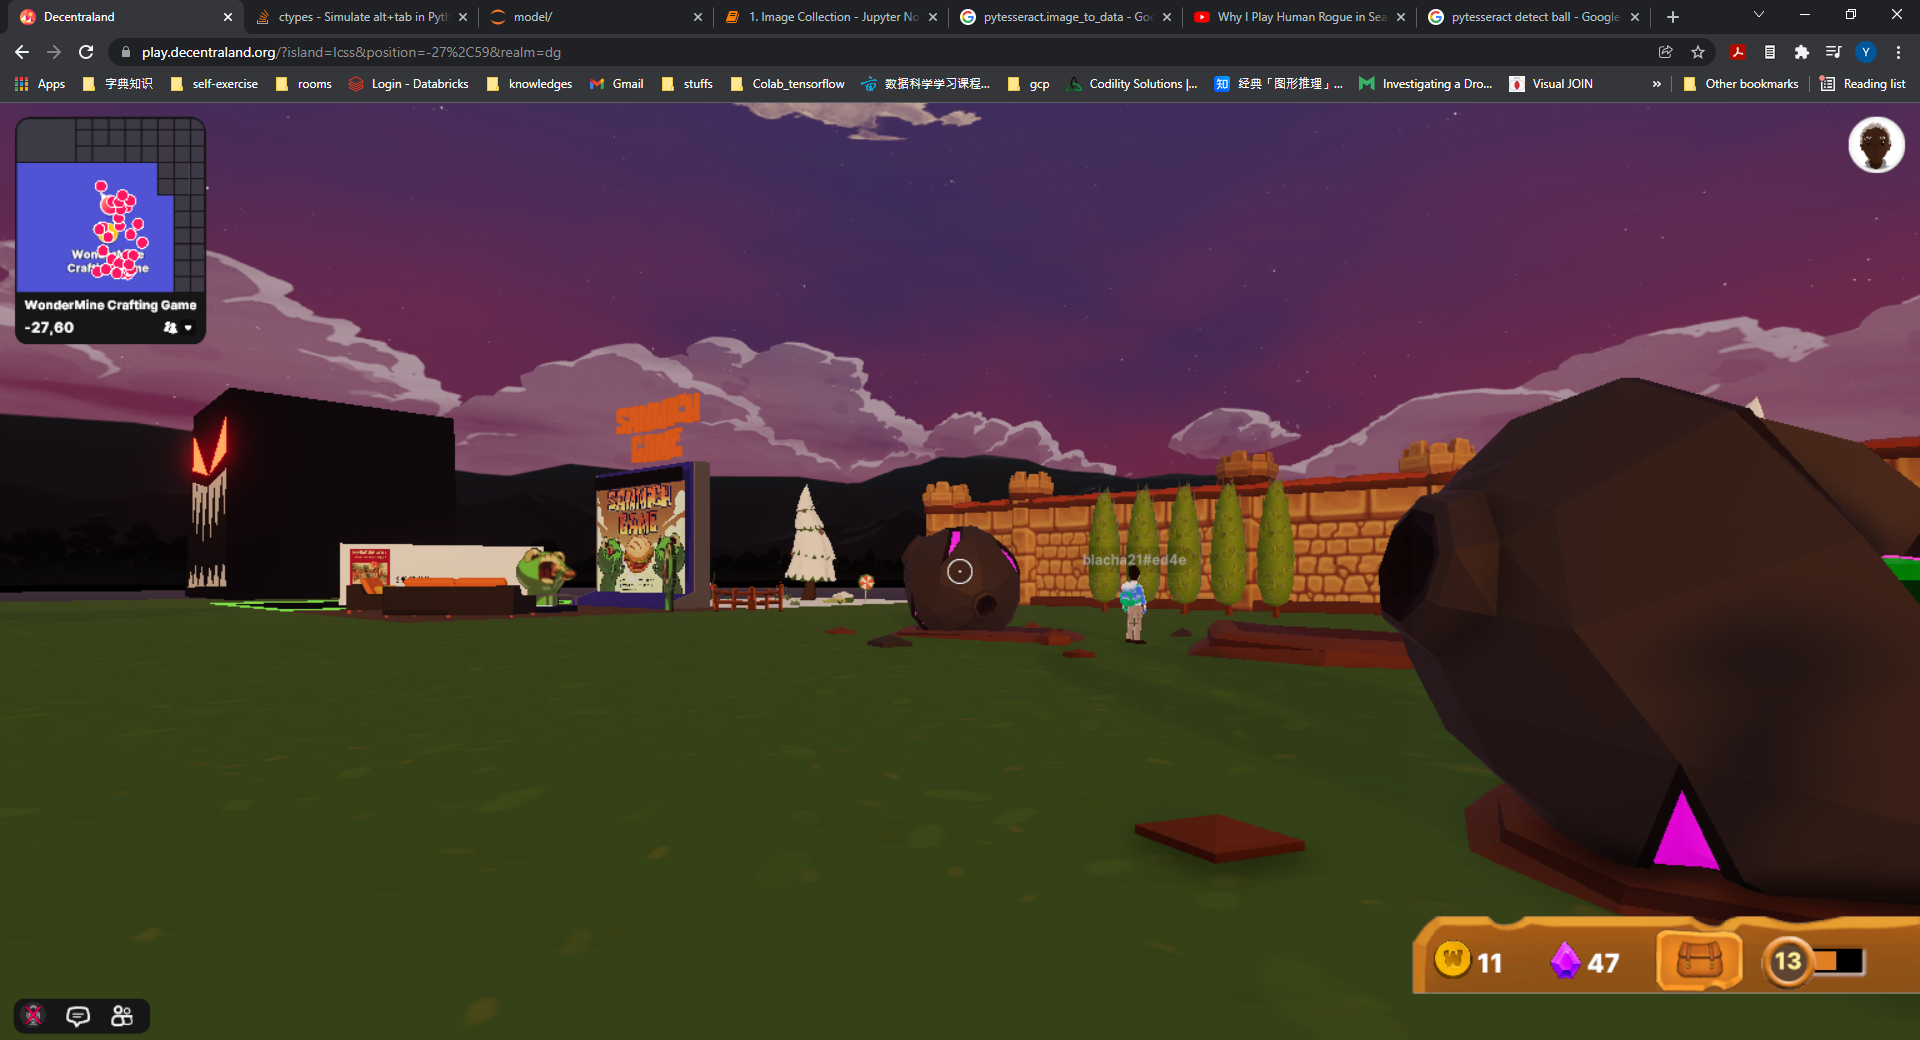black_ball: (867, 485, 1039, 654)
